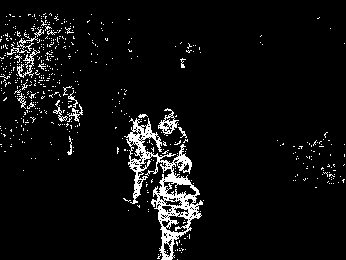person: (154, 156, 204, 260), (123, 115, 160, 209), (154, 105, 188, 199), (54, 85, 85, 161)
